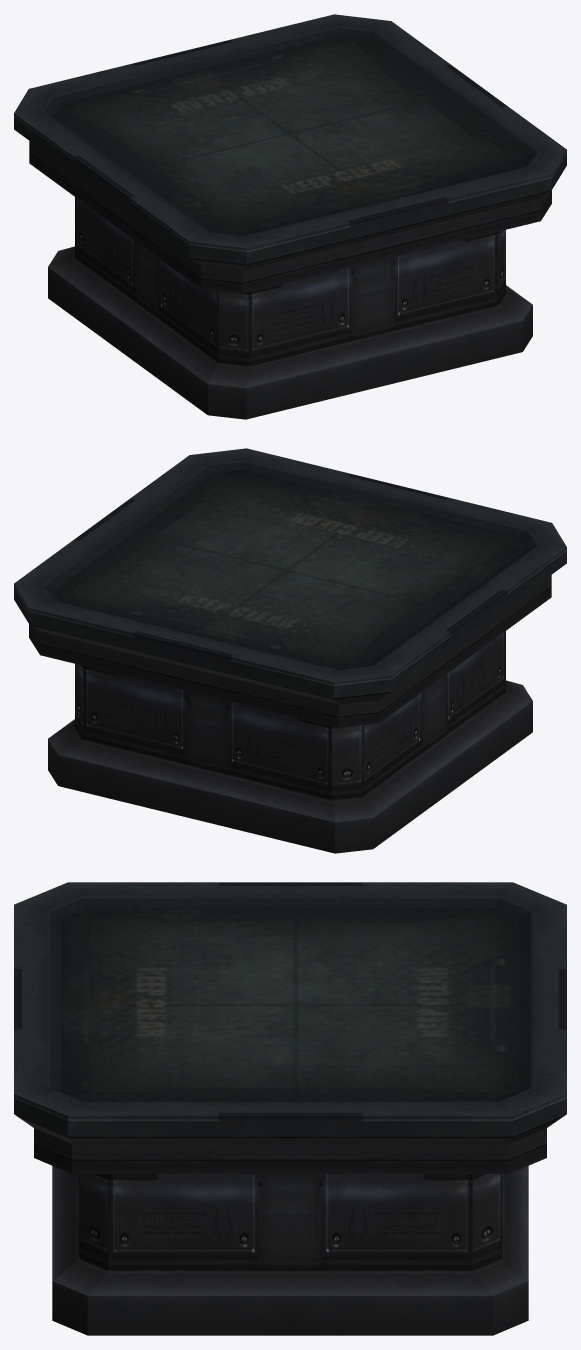
File: ts_jttx_new.FBX
The picture shows the model from 3 angles, top to bottom: view 1: azimuth 30°, elevation 25°; view 2: azimuth 150°, elevation 25°; view 3: azimuth 270°, elevation 25°; orthographic projection. The views are drawn at different scales.
Visible parts, largest first — view 1: tx_mjobj010; view 2: tx_mjobj010; view 3: tx_mjobj010.
Boxes of the visible parts, box(x1,y1,x2,y2) form: tx_mjobj010: box(14, 14, 566, 419); tx_mjobj010: box(14, 448, 566, 853); tx_mjobj010: box(14, 882, 566, 1335).
Bounding box in the file's own units: 3.21 × 1.51 × 3.21.
Materials: 1 (1 with a texture image).
